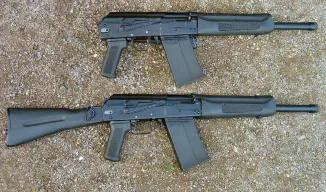larga: (6, 93, 319, 172), (98, 12, 318, 88)
